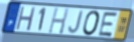1: (38, 7, 47, 33)
E: (97, 11, 119, 38)
H: (47, 7, 70, 36), (14, 6, 37, 33)
J: (67, 10, 84, 34)
O: (82, 10, 101, 37)
